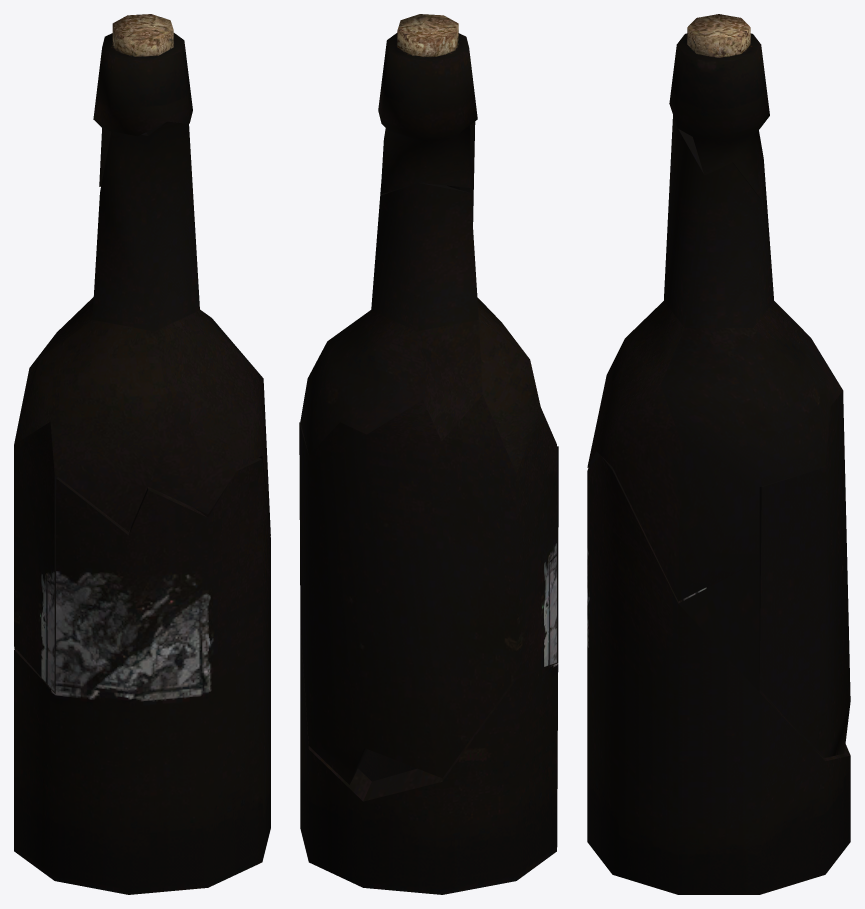
Rendered from wine01_amfp_broken.dae.
3 views of the same model, side by side, from view 1: azimuth 30°, elevation 25°; view 2: azimuth 150°, elevation 25°; view 3: azimuth 270°, elevation 25° (orthographic).
Parts seen in each view (by area): view 1: wine01_broken01, wine01_broken03, wine01_broken02, wine01_broken04; view 2: wine01_broken02, wine01_broken01, wine01_broken03, wine01_broken04; view 3: wine01_broken01, wine01_broken03, wine01_broken02, wine01_broken04.
Part boxes in pixels (bbox=[...]): wine01_broken01: bbox=[14, 458, 270, 894]; wine01_broken03: bbox=[14, 121, 270, 535]; wine01_broken02: bbox=[14, 359, 199, 692]; wine01_broken04: bbox=[93, 14, 192, 186]; wine01_broken02: bbox=[299, 395, 556, 784]; wine01_broken01: bbox=[300, 446, 558, 894]; wine01_broken03: bbox=[300, 121, 540, 473]; wine01_broken04: bbox=[378, 14, 477, 193]; wine01_broken01: bbox=[587, 455, 850, 894]; wine01_broken03: bbox=[587, 115, 842, 601]; wine01_broken02: bbox=[683, 390, 850, 757]; wine01_broken04: bbox=[669, 14, 769, 198].
Bounding box in the file's own units: 0.0964 × 0.3461 × 0.1013.
